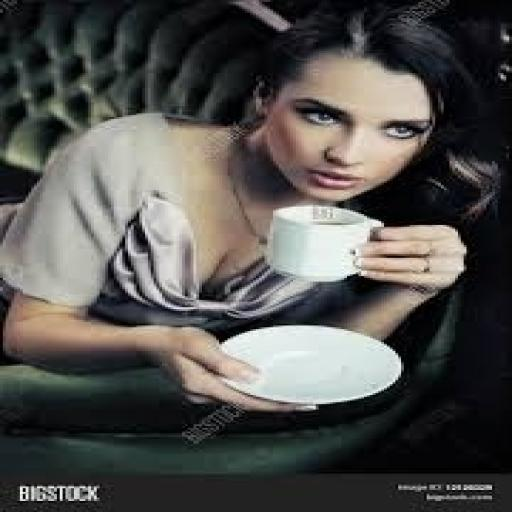drinking: (262, 46, 401, 282)
